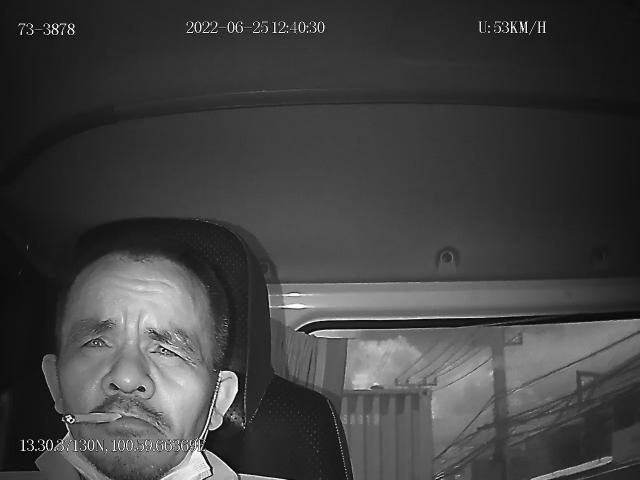SafeDriving: (144, 329, 192, 367), (74, 324, 118, 359)
Smoking: (58, 410, 124, 426)
